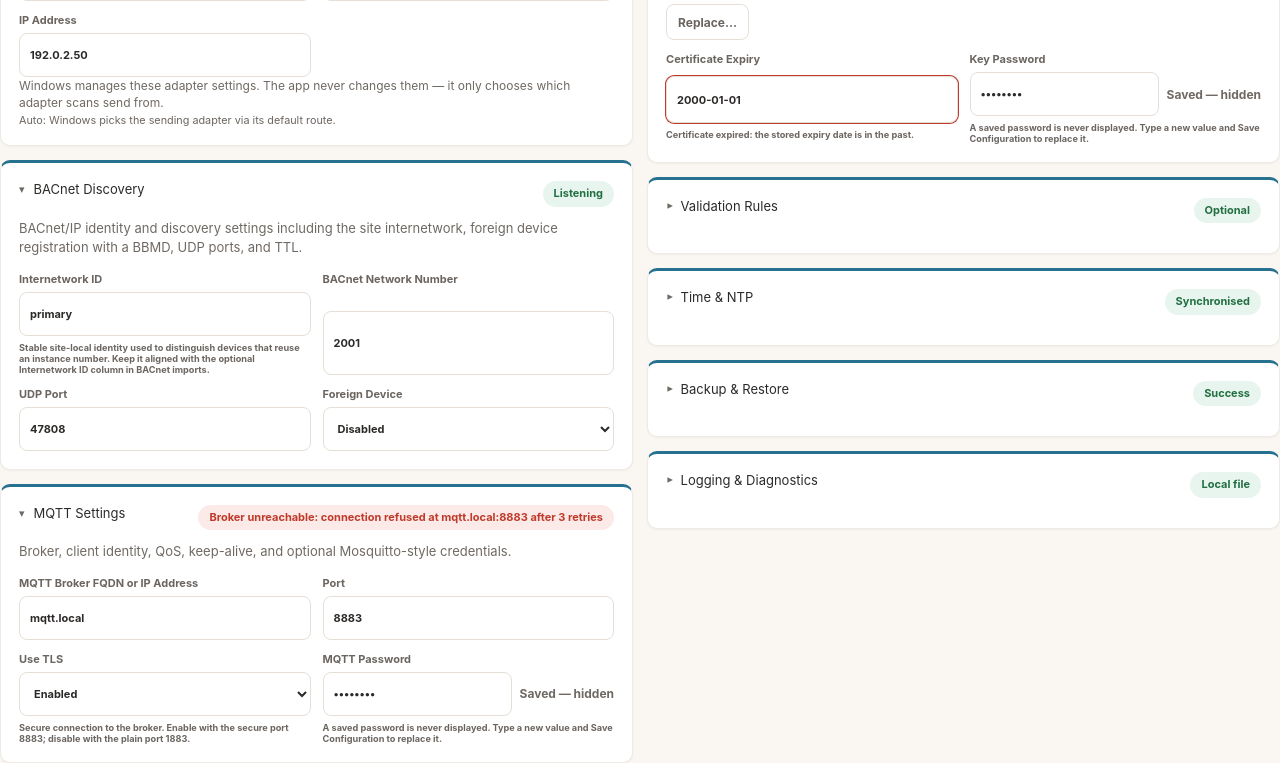
it: ConfigurationPage › renders the logging section with a Log Level select and a masked upload token, and no syslog fields
(page scrolled)
Step 1. Click the button "▾ Logging & Diagnostics Local file" → coordinates (749, 480), box [666,472,1261,498]
(page scrolled)
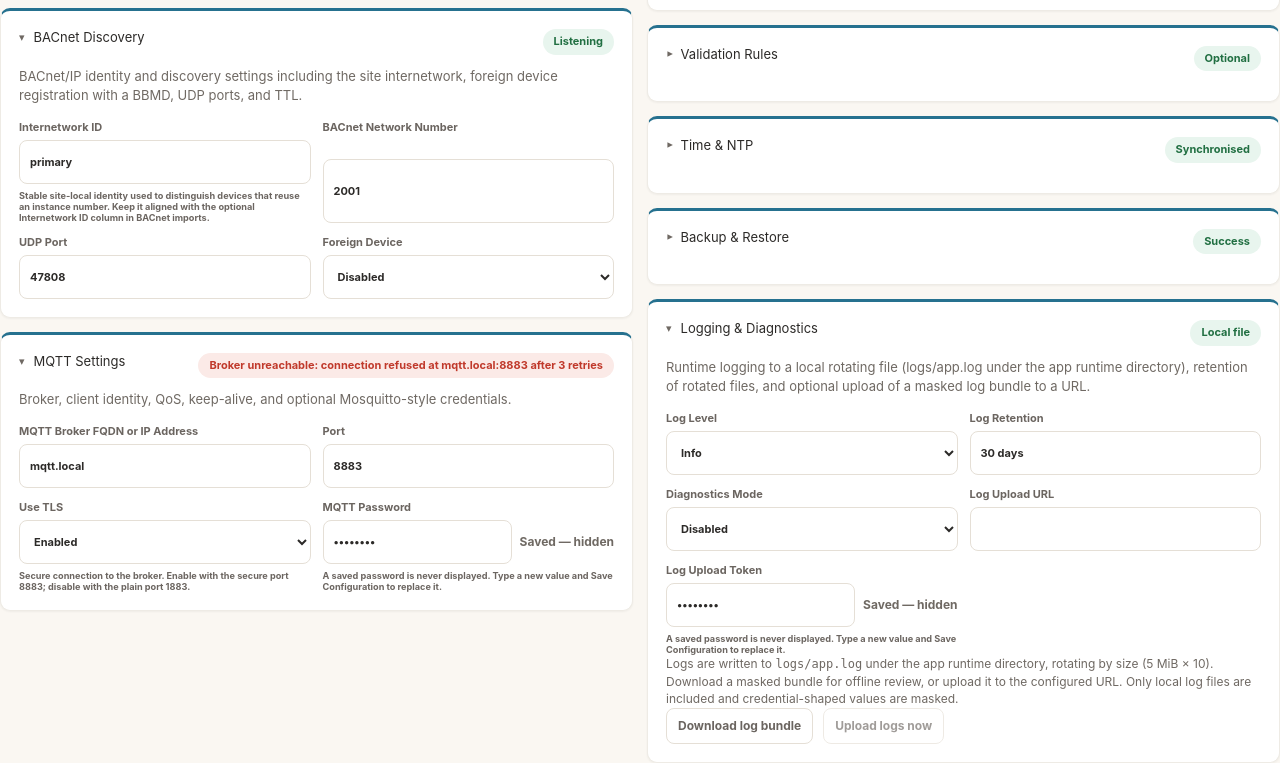
Now the element labelled "Log Upload Token" is shown, box [666,563,958,655]
Now the text with class "secret-stored-note" below "Log Upload Token" is shown, box [863,597,958,612]
